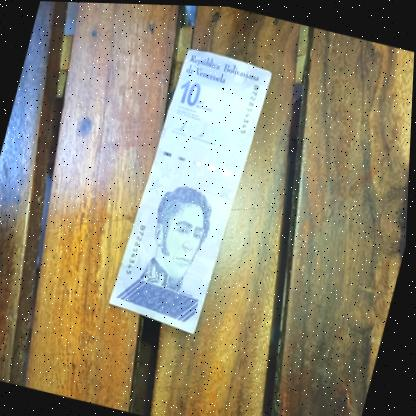vef_front: (106, 40, 276, 338)
